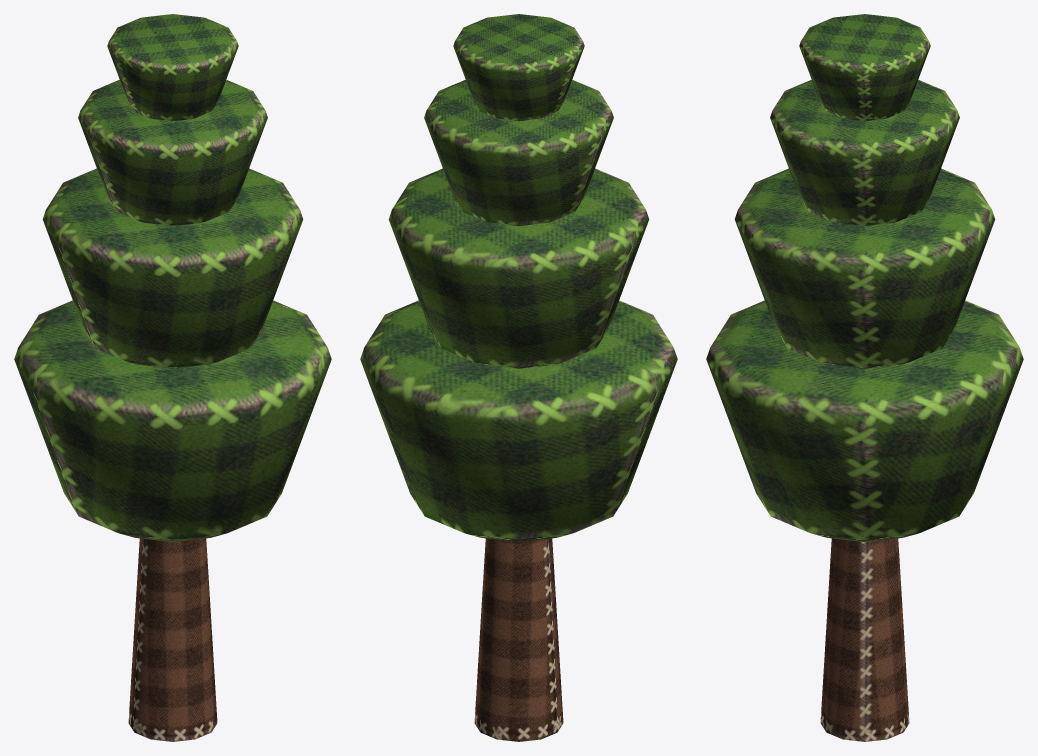
File: lpb_cs_tree16.fbx
3 views of the same model, side by side, from view 1: azimuth 30°, elevation 25°; view 2: azimuth 150°, elevation 25°; view 3: azimuth 270°, elevation 25° (orthographic).
Parts seen in each view (by area): view 1: lpb_cs_tree16; view 2: lpb_cs_tree16; view 3: lpb_cs_tree16.
Part boxes in pixels (bbox=[...]): lpb_cs_tree16: bbox=[14, 14, 331, 741]; lpb_cs_tree16: bbox=[360, 14, 677, 741]; lpb_cs_tree16: bbox=[706, 14, 1023, 741].
Bounding box in the file's own units: 88.42 × 211 × 88.42.
